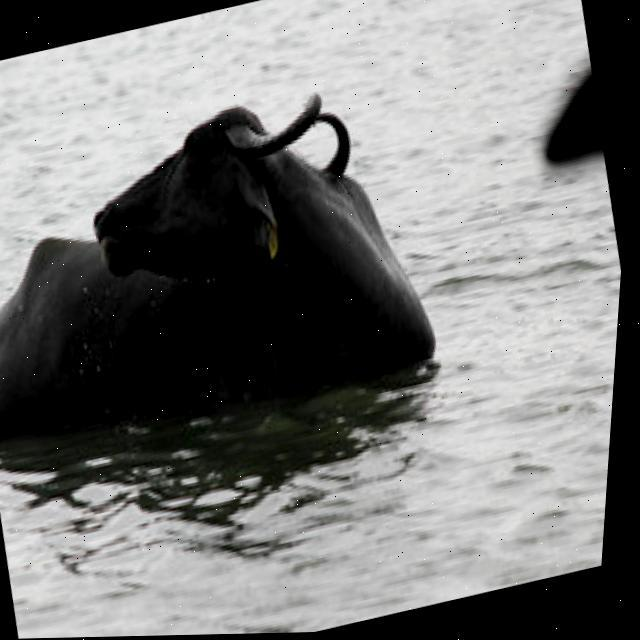Buffalo: (0, 60, 461, 474)
